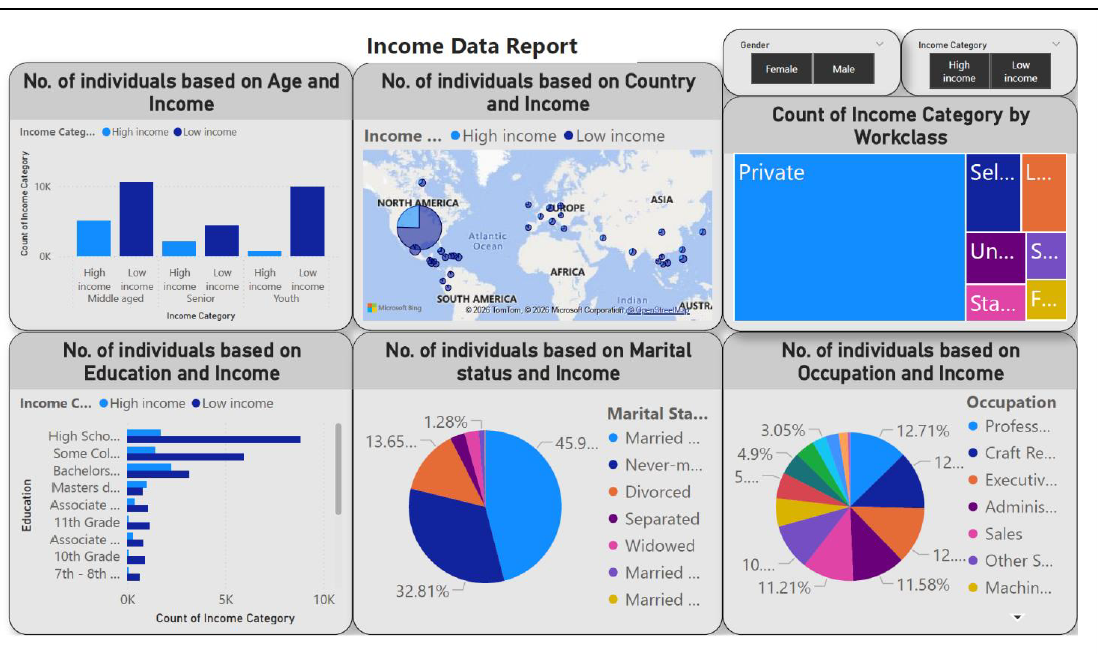

What the dashboard file says about the page in this screenshot:
{"tool":"powerbi","page":{"name":"Dashboard","canvas":[1280,720],"ordinal":0},"visuals":[{"type":"columnChart","title":"No. of individuals based on Age and Income ","fields":{"Category":["Data.Age category","Data.Income Category"],"Y":["CountNonNull(Data.Income Category)"],"Series":["Data.Income Category"]},"box":[9.7,40.5,408,319],"z":0},{"type":"map","title":"No. of individuals based on Country and Income ","fields":{"Category":["Data.Native country"],"Series":["Data.Income Category"],"Size":["CountNonNull(Data.Income Category)"]},"box":[417.8,40.5,440.4,319],"z":1000},{"type":"clusteredBarChart","title":"No. of individuals based on Education and Income","fields":{"Category":["Data.Education"],"Y":["CountNonNull(Data.Income Category)"],"Series":["Data.Income Category"]},"box":[10,360,408.3,360],"z":2000},{"type":"pieChart","title":"No. of individuals based on Marital status and Income","fields":{"Category":["Data.Marital Status"],"Y":["CountNonNull(Data.Income Category)"]},"box":[418.3,360,440,360],"z":3000},{"type":"slicer","fields":{"Values":["Data.Income Category"]},"box":[1070,0,210,80],"z":4000},{"type":"pieChart","title":"No. of individuals based on Occupation and Income","fields":{"Category":["Data.Occupation"],"Y":["CountNonNull(Data.Occupation)"]},"box":[858.3,360,421.7,360],"z":5000},{"type":"slicer","fields":{"Values":["Data.Gender"]},"box":[858.3,0,211.7,80],"z":6000},{"type":"treemap","fields":{"Group":["Data.Workclass"],"Values":["CountNonNull(Data.Income Category)"]},"box":[858.3,80,421.7,280],"z":7000},{"type":"textbox","title":"Income Data Report","box":[429.1,0,327.1,40.5],"z":8000}]}

Visuals, with their boxes on the page's 1280x720 design canvas (x1, y1, x2, y2). These are canvas units, not pixel positions in the 1098x654 screenshot, which may show the page scaled, cropped or inside an application window:
"No. of individuals based on Age and Income " columnChart: (10,40,418,360)
"No. of individuals based on Country and Income " map: (418,40,858,360)
"No. of individuals based on Education and Income" clusteredBarChart: (10,360,418,720)
"No. of individuals based on Marital status and Income" pieChart: (418,360,858,720)
slicer - Data.Income Category: (1070,0,1280,80)
"No. of individuals based on Occupation and Income" pieChart: (858,360,1280,720)
slicer - Data.Gender: (858,0,1070,80)
treemap - Data.Workclass x CountNonNull(Data.Income Category): (858,80,1280,360)
"Income Data Report" textbox: (429,0,756,40)
